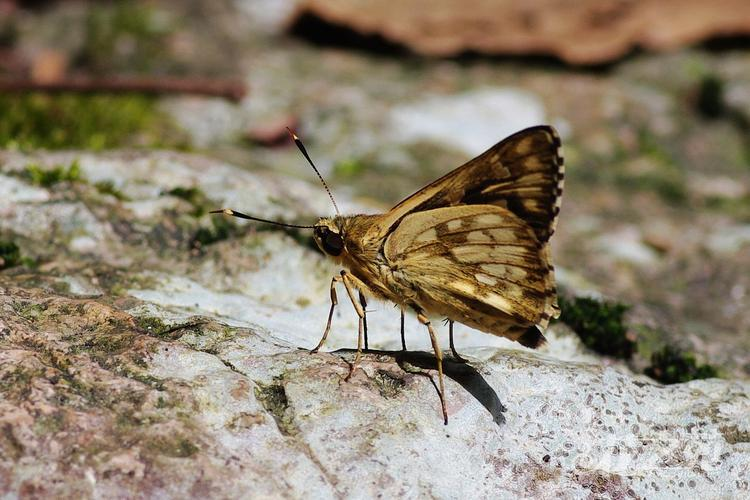Hesperiidae: (212, 111, 571, 413)
